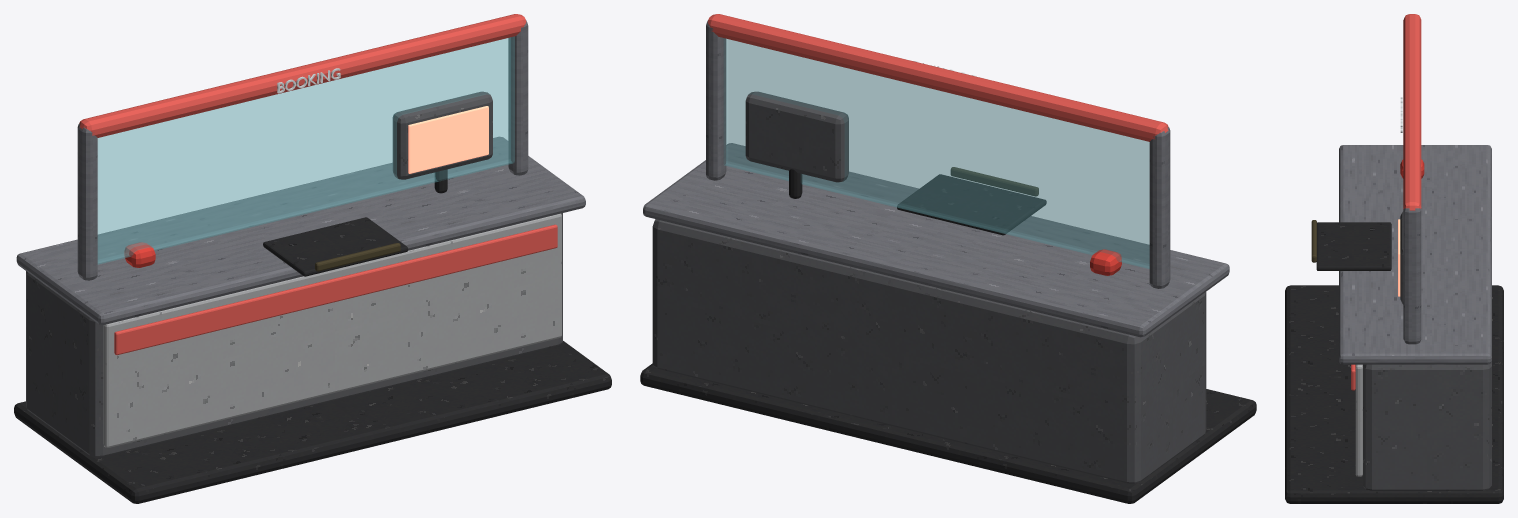
Rendered from decor_sec_booking_desk.glb.
The picture shows the model from 3 angles, left to right: view 1: azimuth 30°, elevation 25°; view 2: azimuth 150°, elevation 25°; view 3: azimuth 270°, elevation 25°; orthographic projection. The views are drawn at different scales.
Visible parts, largest first — view 1: DEC_SecBookingDesk__Counter_Face, DEC_SecBookingDesk__Armored_Glass, DEC_SecBookingDesk__Counter_Top, DEC_SecBookingDesk__Plinth, DEC_SecBookingDesk__Counter_Body, DEC_SecBookingDesk__Accent_Band, DEC_SecBookingDesk__Glass_Header, DEC_SecBookingDesk__Pass_Tray, DEC_SecBookingDesk__Terminal_Screen, DEC_SecBookingDesk__Glass_Post_1, DEC_SecBookingDesk__Terminal, DEC_SecBookingDesk__Glass_Post_2 (+2 smaller); view 2: DEC_SecBookingDesk__Counter_Body, DEC_SecBookingDesk__Armored_Glass, DEC_SecBookingDesk__Counter_Top, DEC_SecBookingDesk__Plinth, DEC_SecBookingDesk__Glass_Header, DEC_SecBookingDesk__Terminal, DEC_SecBookingDesk__Pass_Tray, DEC_SecBookingDesk__Glass_Post_1, DEC_SecBookingDesk__Glass_Post_2, DEC_SecBookingDesk__Pass_Slot, DEC_SecBookingDesk__Custody_Lamp; view 3: DEC_SecBookingDesk__Counter_Top, DEC_SecBookingDesk__Plinth, DEC_SecBookingDesk__Counter_Body, DEC_SecBookingDesk__Glass_Header, DEC_SecBookingDesk__Pass_Tray, DEC_SecBookingDesk__Glass_Post_2, DEC_SecBookingDesk__Counter_Face, DEC_SecBookingDesk__Terminal.
Part boxes in pixels (bbox=[...]): DEC_SecBookingDesk__Counter_Face: bbox=[103, 213, 561, 447]; DEC_SecBookingDesk__Armored_Glass: bbox=[97, 36, 514, 264]; DEC_SecBookingDesk__Counter_Top: bbox=[16, 136, 585, 324]; DEC_SecBookingDesk__Plinth: bbox=[14, 341, 611, 503]; DEC_SecBookingDesk__Counter_Body: bbox=[26, 213, 562, 457]; DEC_SecBookingDesk__Accent_Band: bbox=[114, 224, 557, 355]; DEC_SecBookingDesk__Glass_Header: bbox=[79, 14, 526, 137]; DEC_SecBookingDesk__Pass_Tray: bbox=[263, 217, 408, 276]; DEC_SecBookingDesk__Terminal_Screen: bbox=[408, 106, 488, 173]; DEC_SecBookingDesk__Glass_Post_1: bbox=[77, 124, 97, 280]; DEC_SecBookingDesk__Terminal: bbox=[392, 91, 492, 179]; DEC_SecBookingDesk__Glass_Post_2: bbox=[508, 20, 528, 175]; DEC_SecBookingDesk__Counter_Body: bbox=[652, 219, 1206, 483]; DEC_SecBookingDesk__Armored_Glass: bbox=[724, 38, 1149, 268]; DEC_SecBookingDesk__Counter_Top: bbox=[643, 143, 1229, 337]; DEC_SecBookingDesk__Plinth: bbox=[640, 363, 1256, 503]; DEC_SecBookingDesk__Glass_Header: bbox=[707, 14, 1168, 141]; DEC_SecBookingDesk__Terminal: bbox=[745, 91, 848, 182]; DEC_SecBookingDesk__Pass_Tray: bbox=[897, 174, 1046, 235]; DEC_SecBookingDesk__Glass_Post_1: bbox=[1149, 127, 1170, 288]; DEC_SecBookingDesk__Glass_Post_2: bbox=[706, 20, 726, 180]; DEC_SecBookingDesk__Pass_Slot: bbox=[950, 167, 1038, 196]; DEC_SecBookingDesk__Custody_Lamp: bbox=[1090, 249, 1121, 275]; DEC_SecBookingDesk__Counter_Top: bbox=[1339, 145, 1491, 364]; DEC_SecBookingDesk__Plinth: bbox=[1285, 285, 1503, 503]; DEC_SecBookingDesk__Counter_Body: bbox=[1363, 361, 1491, 490]; DEC_SecBookingDesk__Glass_Header: bbox=[1403, 14, 1421, 210]; DEC_SecBookingDesk__Pass_Tray: bbox=[1316, 222, 1391, 270]; DEC_SecBookingDesk__Glass_Post_2: bbox=[1403, 208, 1421, 344]; DEC_SecBookingDesk__Counter_Face: bbox=[1355, 364, 1362, 476]; DEC_SecBookingDesk__Terminal: bbox=[1400, 211, 1403, 304].
Bounding box in the file's own units: 3.35 × 2.16 × 1.46.
Materials: 10 (4 with a texture image).
